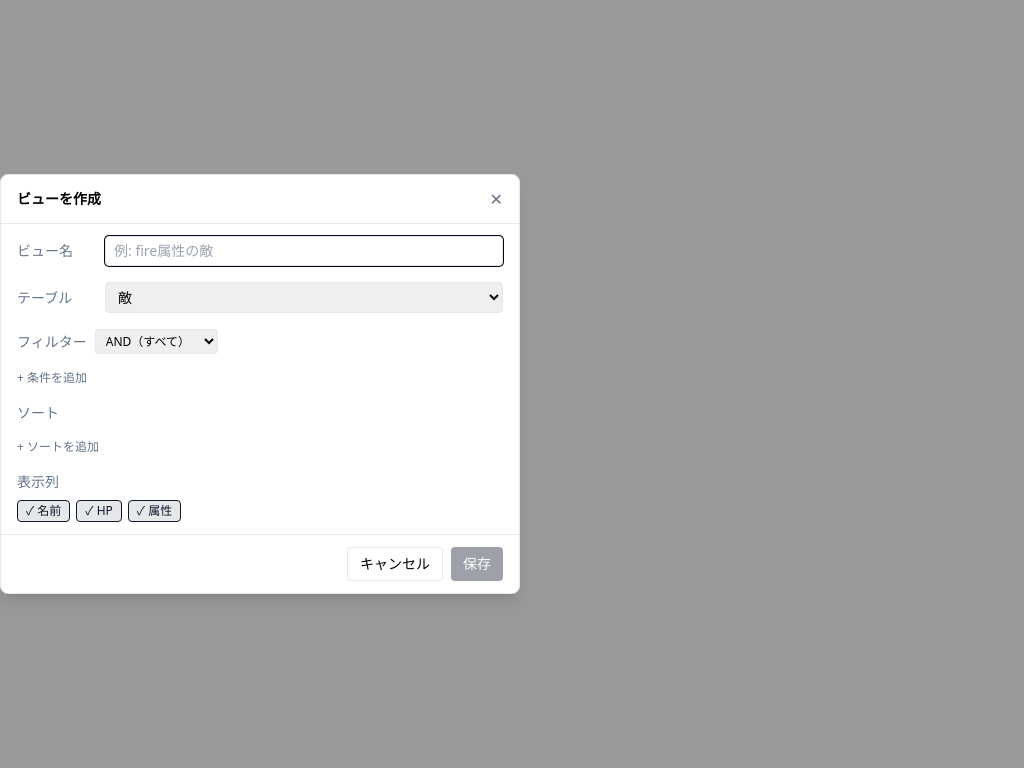
Test: FilterViewDialog › 条件の追加・削除 › 条件行の ✕ で条件を削除できる
The image size is (1024, 768).
Click the button "+ 条件を追加".
click(52, 378)  # box [17,370,87,386]
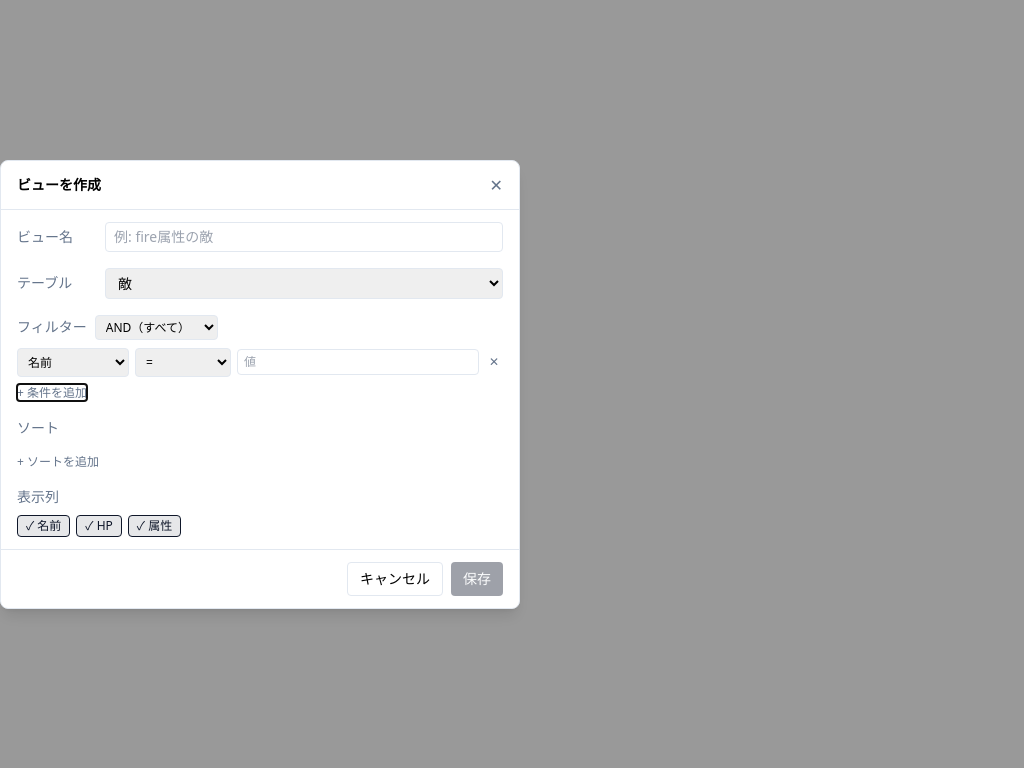
Check: the field with placeholder "値" is shown, box [237,349,479,375]
Note: The last ✕ button is the condition delete button
Click the 2nd button "✕".
click(494, 362)  # box [485,354,503,370]
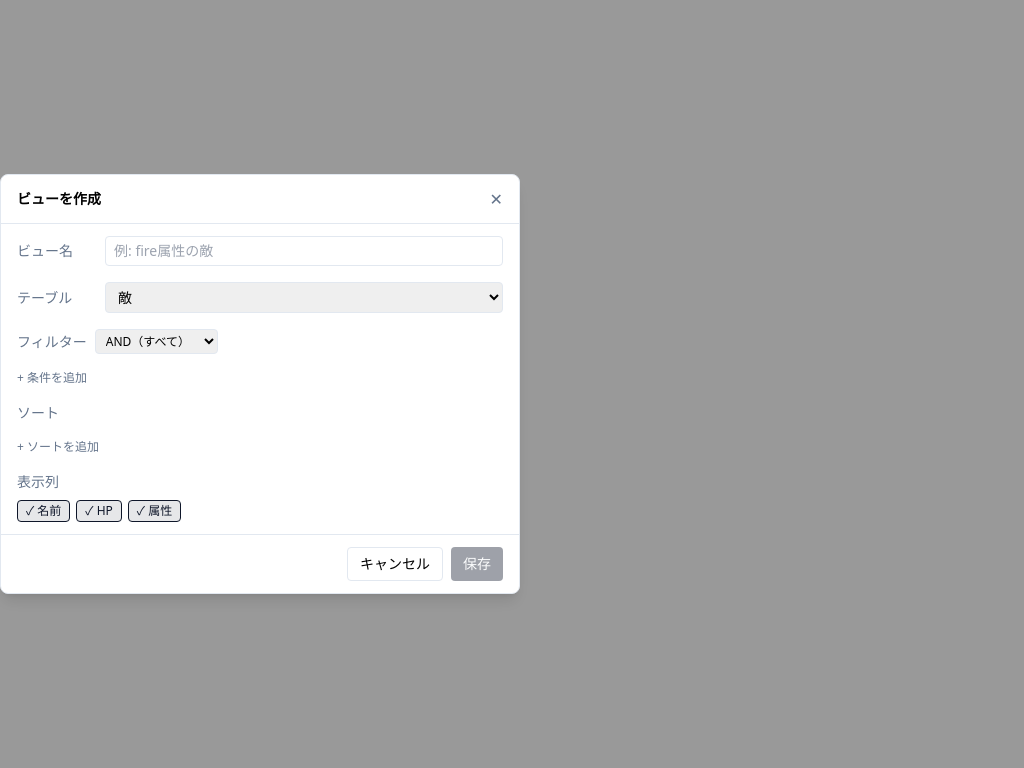
Check: the field with placeholder "値" is gone
